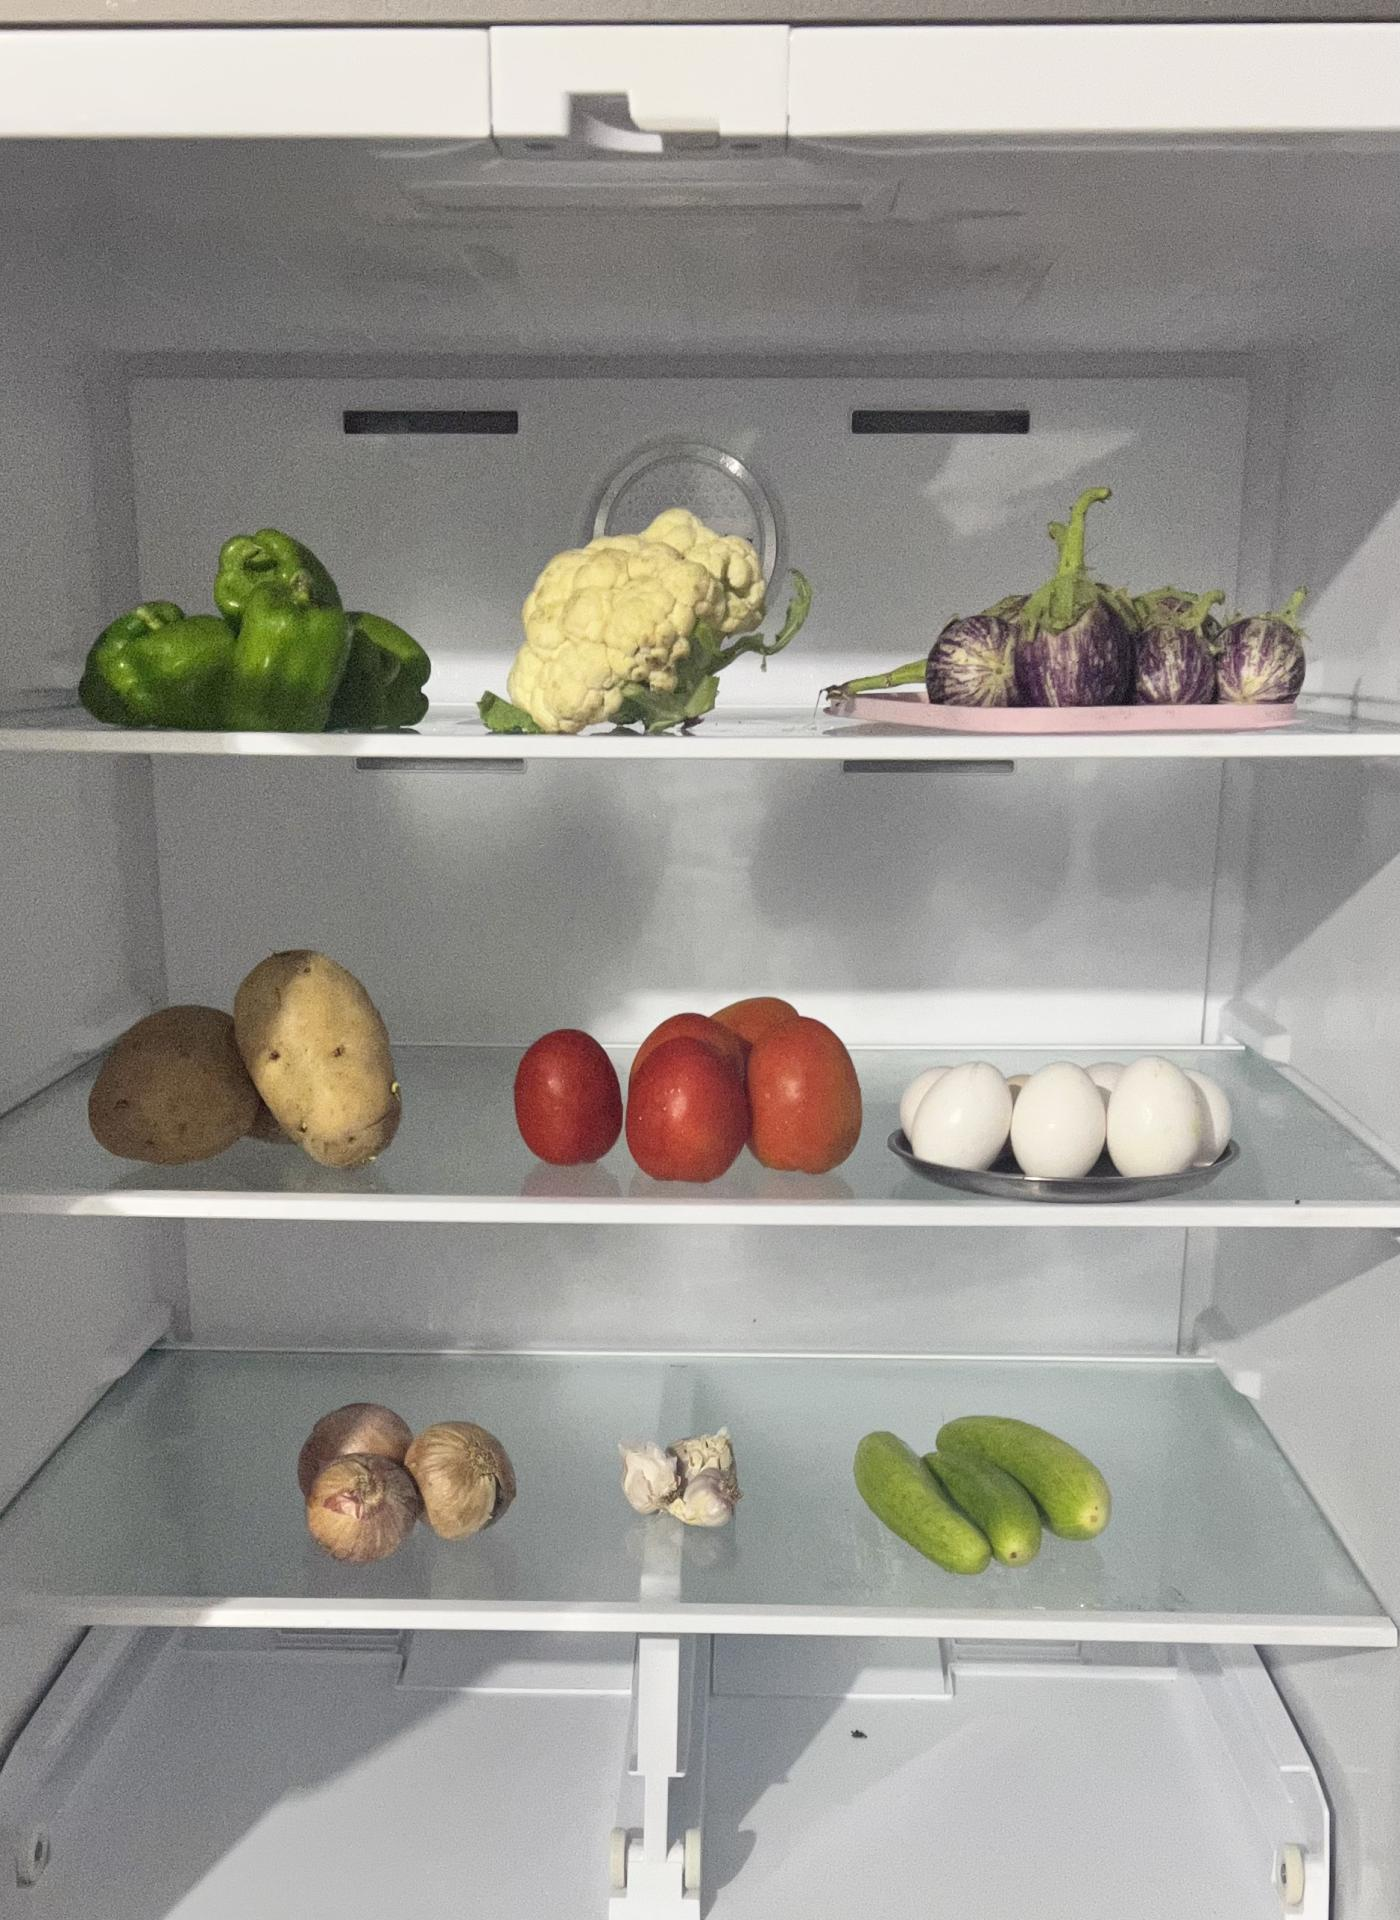brinjal: (902, 560, 1315, 713)
capsicum: (83, 534, 431, 729)
cauliflower: (508, 513, 769, 730)
cucumber: (853, 1415, 1114, 1570)
egg: (896, 1054, 1232, 1182)
garlic: (614, 1427, 740, 1529)
potato: (94, 951, 401, 1160), (307, 1401, 525, 1559)
tomato: (519, 990, 865, 1179)
